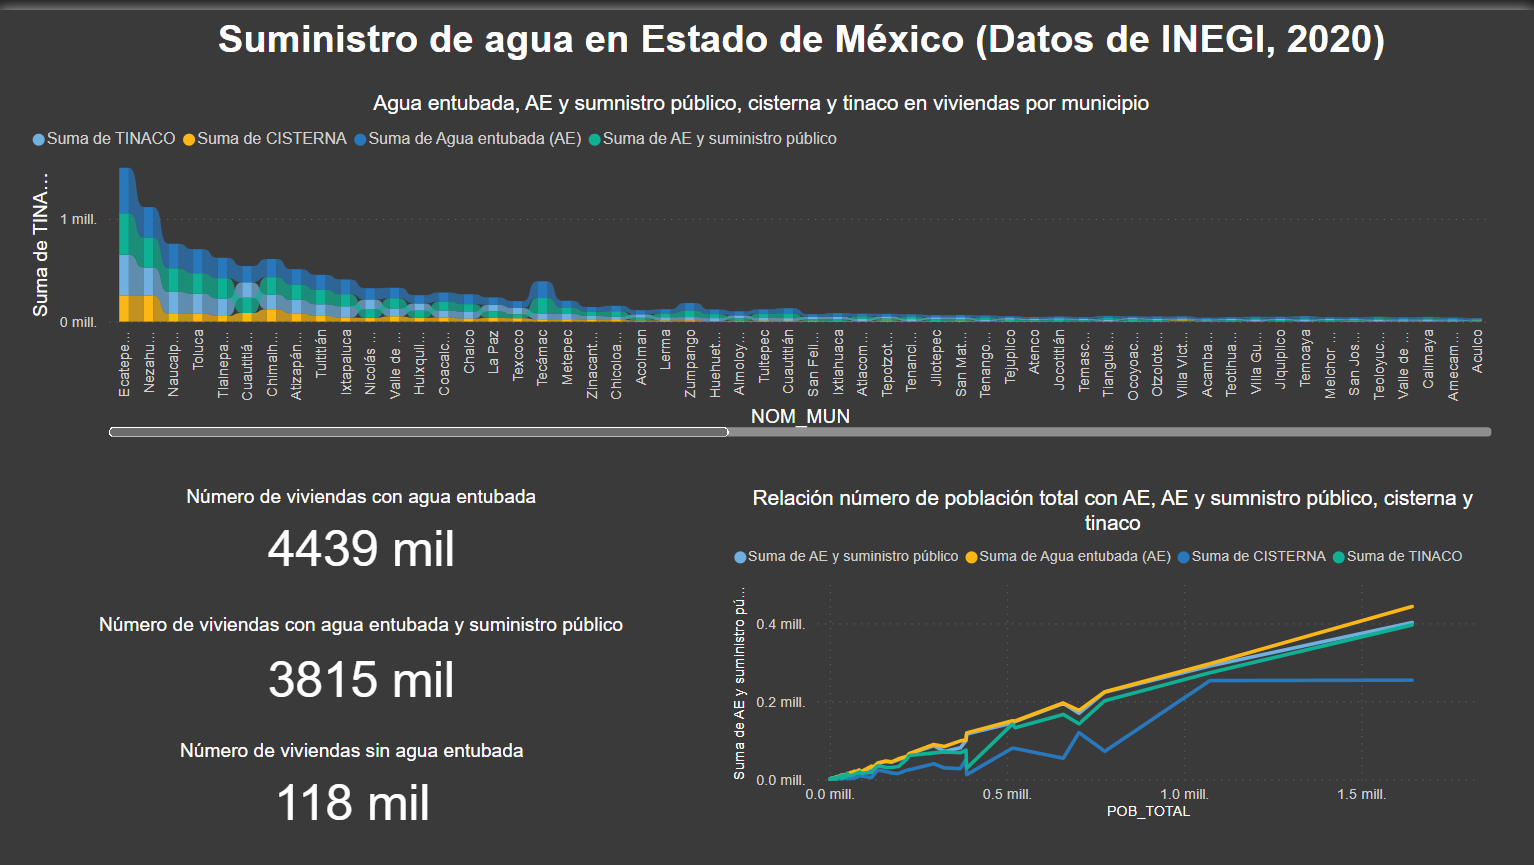

The dashboard page shown, as its layout file describes it:
{"tool":"powerbi","page":{"name":"Página 1","canvas":[1280,720],"ordinal":0},"visuals":[{"type":"ribbonChart","title":"Agua entubada, AE y sumnistro público, cisterna y tinaco en viviendas por municipio","fields":{"Category":["Datos limpios inegi.NOM_MUN"],"Y":["Sum(Datos limpios inegi.TINACO)","Sum(Datos limpios inegi.CISTERNA)","Sum(Datos limpios inegi.Agua entubada (AE))","Sum(Datos limpios inegi.AE y suministro público)"]},"box":[22.9,67.1,1227.1,292.9],"z":1000},{"type":"lineChart","title":"Relación  número de población total  con AE, AE y sumnistro público, cisterna y tinaco","fields":{"Category":["Datos limpios inegi.POB_TOTAL"],"Y":["Sum(Datos limpios inegi.AE y suministro público)","Sum(Datos limpios inegi.Agua entubada (AE))","Sum(Datos limpios inegi.CISTERNA)","Sum(Datos limpios inegi.TINACO)"]},"box":[607.1,395.7,642.9,282.9],"z":2000},{"type":"card","title":"Número de viviendas con agua entubada y suministro público","fields":{"Values":["Sum(Datos limpios inegi.AE y suministro público)"]},"box":[67.1,502.9,470,88.6],"z":2001},{"type":"card","title":"Número de viviendas con agua entubada ","fields":{"Values":["Sum(Datos limpios inegi.Agua entubada (AE))"]},"box":[75.7,395.7,452.9,81.4],"z":2002},{"type":"card","title":"Número de viviendas sin agua entubada","fields":{"Values":["Sum(Datos limpios inegi.No agua entubada)"]},"box":[45.7,607.1,497.1,82.9],"z":2003},{"type":"textbox","box":[174.3,0,991.4,47.1],"z":2004}]}

Visuals, with their boxes in screenshot pixels (x1, y1, x2, y2), scaled from the page's 1280x720 canvas onto the 1534x865 screenshot:
"Agua entubada, AE y sumnistro público, cisterna y tinaco en viviendas por municipio" ribbonChart: [27, 81, 1498, 432]
"Relación  número de población total  con AE, AE y sumnistro público, cisterna y tinaco" lineChart: [728, 475, 1498, 815]
"Número de viviendas con agua entubada y suministro público" card: [80, 604, 644, 711]
"Número de viviendas con agua entubada " card: [91, 475, 633, 573]
"Número de viviendas sin agua entubada" card: [55, 729, 651, 829]
textbox: [209, 0, 1397, 57]
